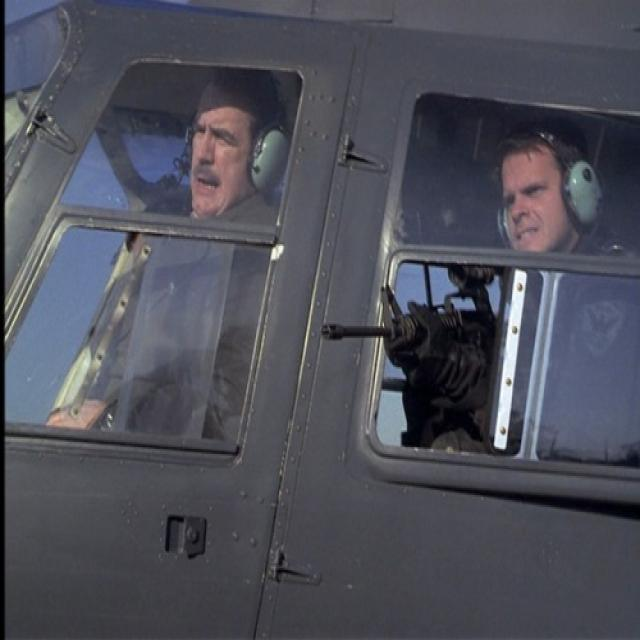rifle: (325, 260, 491, 379)
